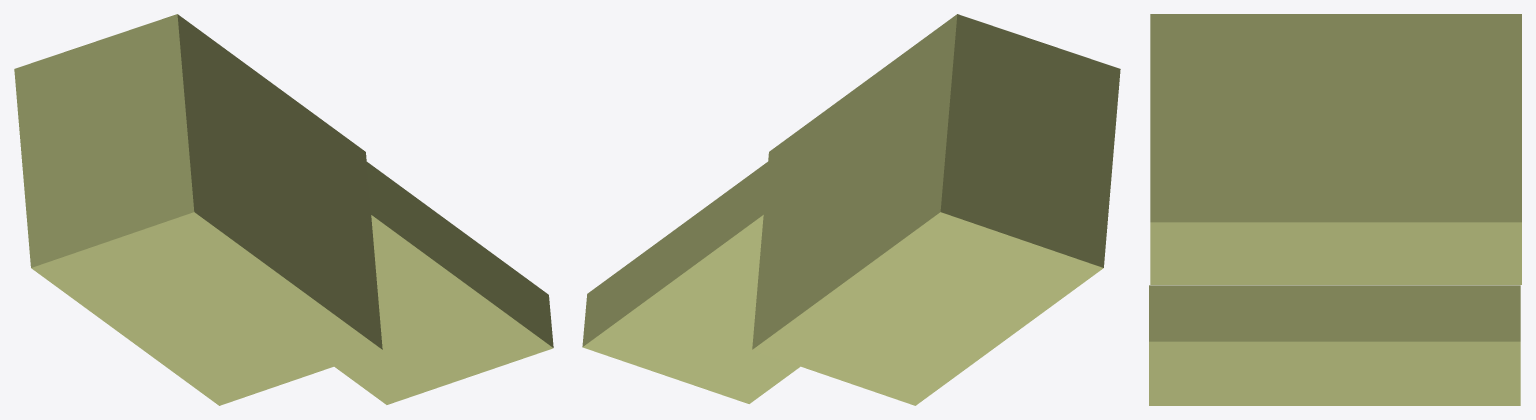
3 renders of one model, left to right at view 1: azimuth 30°, elevation 25°; view 2: azimuth 150°, elevation 25°; view 3: azimuth 270°, elevation 25°, orthographic.
Visible parts, largest first — view 1: 0_2_3_3_3_1_0_2_0_1_3; view 2: 0_2_3_3_3_1_0_2_0_1_3; view 3: 0_2_3_3_3_1_0_2_0_1_3.
Boxes of the visible parts, x1,y1,x2,y2 form: 0_2_3_3_3_1_0_2_0_1_3: (14,14,553,405); 0_2_3_3_3_1_0_2_0_1_3: (582,14,1120,405); 0_2_3_3_3_1_0_2_0_1_3: (1149,14,1521,405).
Size of the model in its own units: 9.67 by 6.8 by 9.03.
